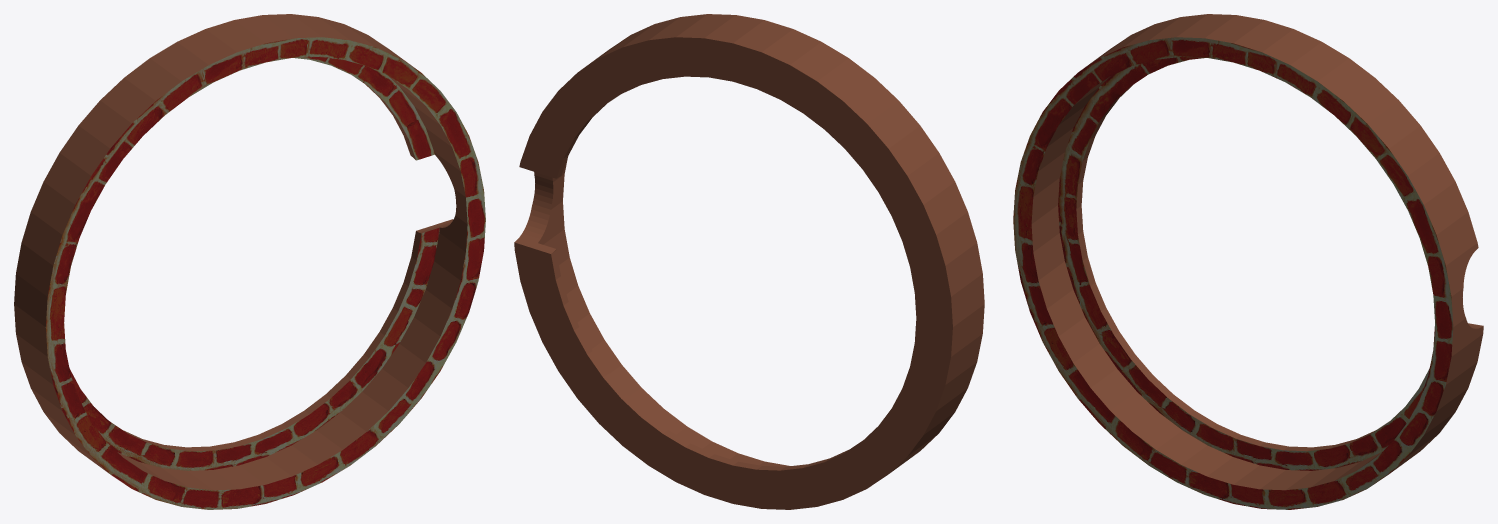
File: pool_024.obj
The picture shows the model from 3 angles, left to right: view 1: azimuth 30°, elevation 25°; view 2: azimuth 150°, elevation 25°; view 3: azimuth 330°, elevation 25°; orthographic projection.
Size of the model in its own units: 24 by 24 by 3.
